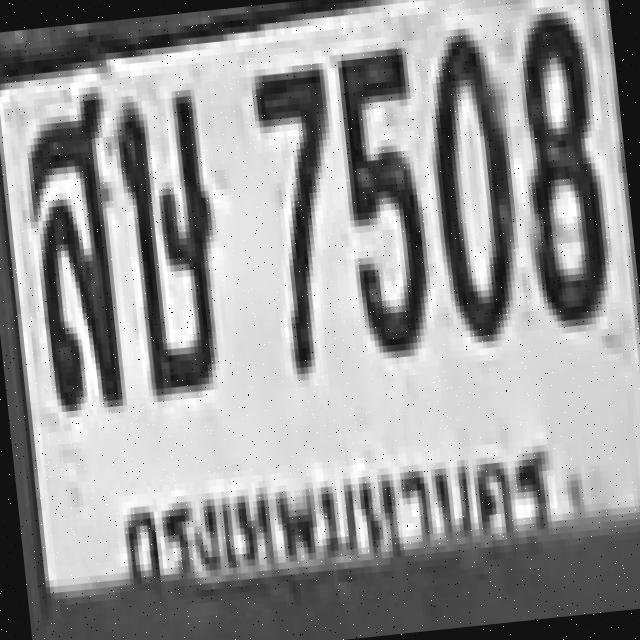0: (418, 19, 524, 338)
48SorRueSi: (110, 82, 226, 396)
49SorSuea: (18, 90, 126, 410)
5: (328, 42, 433, 354)
7: (245, 60, 350, 373), (245, 60, 341, 290)
8: (506, 4, 610, 323)
Bangkok: (101, 418, 574, 591)
